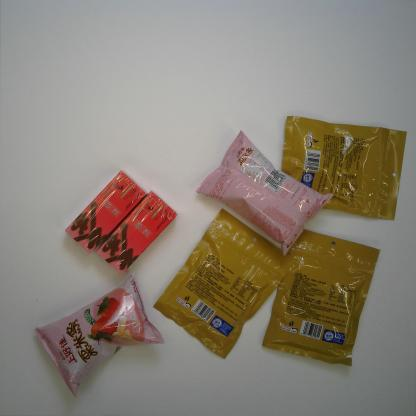Dried Fruit: (152, 206, 297, 361), (260, 228, 382, 369), (280, 114, 407, 222)
Instant Drink: (64, 169, 149, 255), (95, 189, 179, 275)
Puffed Food: (194, 129, 335, 258), (33, 272, 165, 399)
